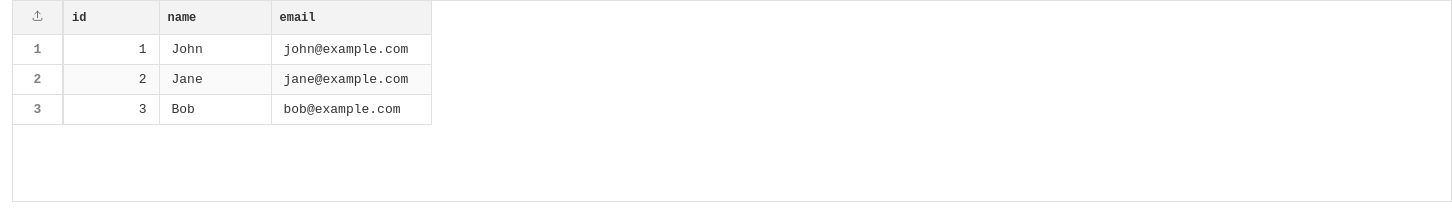
Test: DataGrid › opens export menu when row number header clicked
Click the column heading titled "Click for export options and auto-fit columns" at (38, 18), box [13, 1, 63, 34]
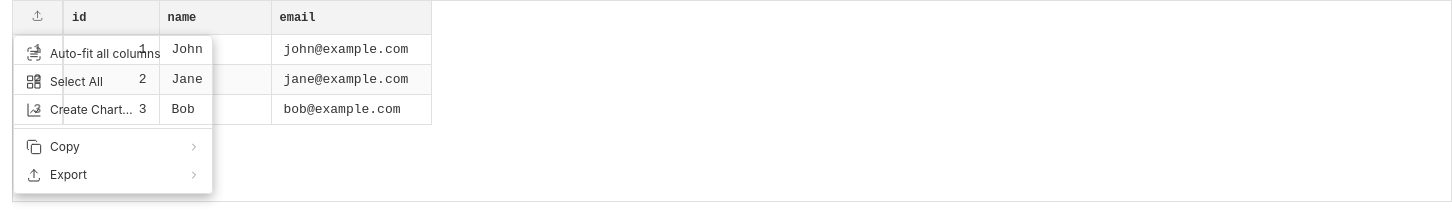
Result: the element with test id "export-menu" is shown at [13, 34, 213, 194]
